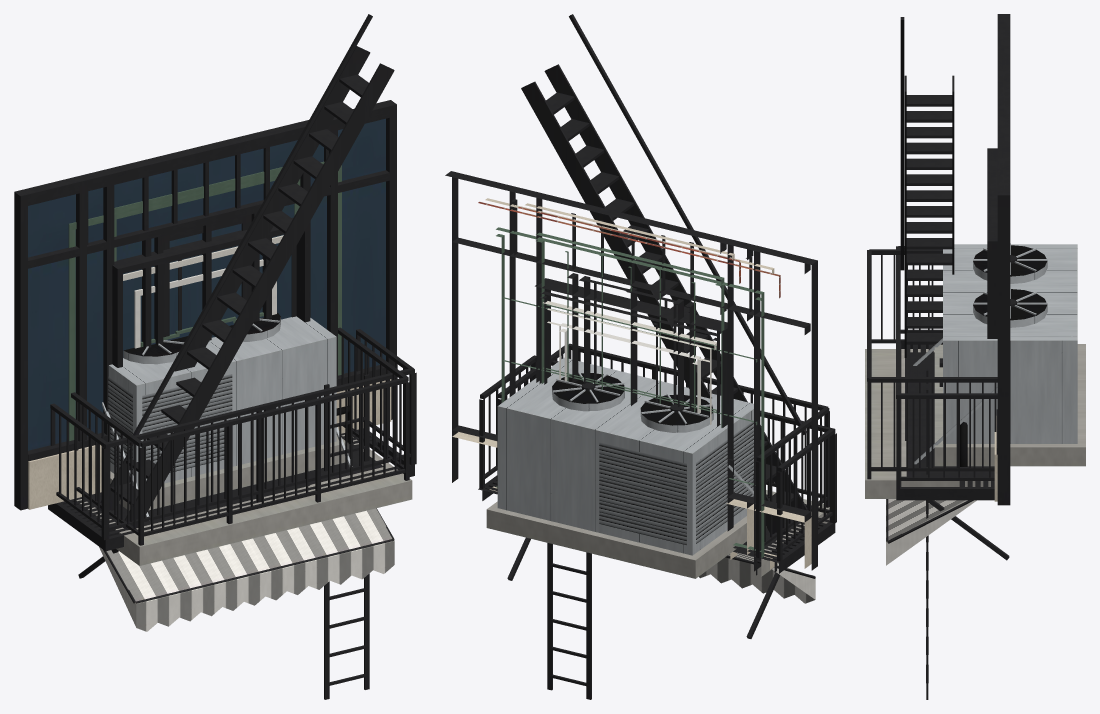
Rendered from facade-kit.glb.
The picture shows the model from 3 angles, left to right: view 1: azimuth 30°, elevation 25°; view 2: azimuth 150°, elevation 25°; view 3: azimuth 270°, elevation 25°; orthographic projection. The views are drawn at different scales.
Visible parts, largest first — view 1: storefront_door_45, fire_escape_floor, balcony_slab, hvac_rooftop, awning_fabric, storefront_glass_45, fire_escape_top, storefront_door_32, storefront_door_26, window_stucco_modern, window_brick_warehouse, fire_escape_ladder (+4 smaller); view 2: hvac_rooftop, fire_escape_floor, storefront_door_45, balcony_slab, window_brick_warehouse, window_stucco_modern, window_brick_loft, storefront_door_32, fire_escape_top, storefront_door_26, awning_fabric, fire_escape_ladder (+3 smaller); view 3: hvac_rooftop, fire_escape_floor, balcony_slab, storefront_door_45, fire_escape_top, awning_fabric, window_stucco_modern, awning_metal, fire_escape_ladder.
Boxes of the visible parts, box(x1,y1,x2,y2) form: storefront_door_45: box(14, 100, 396, 510); fire_escape_floor: box(48, 14, 416, 568); balcony_slab: box(71, 327, 412, 565); hvac_rooftop: box(108, 313, 352, 510); awning_fabric: box(99, 508, 394, 631); storefront_glass_45: box(28, 182, 390, 508); fire_escape_top: box(50, 329, 414, 578); storefront_door_32: box(76, 119, 337, 446); storefront_door_26: box(103, 127, 310, 434); window_stucco_modern: box(112, 217, 310, 367); window_brick_warehouse: box(68, 161, 341, 441); fire_escape_ladder: box(324, 374, 369, 699); hvac_rooftop: box(486, 357, 766, 578); fire_escape_floor: box(478, 14, 836, 638); storefront_door_45: box(445, 171, 817, 570); balcony_slab: box(497, 343, 829, 576); window_brick_warehouse: box(478, 198, 780, 569); window_stucco_modern: box(535, 278, 727, 427); window_brick_loft: box(518, 203, 740, 559); storefront_door_32: box(509, 191, 760, 556); fire_escape_top: box(479, 355, 836, 638); storefront_door_26: box(536, 198, 733, 531); awning_fabric: box(699, 546, 815, 603); fire_escape_ladder: box(547, 543, 591, 699); hvac_rooftop: box(934, 243, 1085, 466); fire_escape_floor: box(896, 17, 1009, 560); balcony_slab: box(865, 249, 997, 498); storefront_door_45: box(994, 14, 1010, 505); fire_escape_top: box(896, 246, 997, 500); awning_fabric: box(886, 499, 976, 565); window_stucco_modern: box(987, 148, 997, 338); awning_metal: box(906, 338, 997, 476); fire_escape_ladder: box(926, 368, 928, 699).
Size of what is drawn, in the model's own units: 4.14 by 7.21 by 2.13.
1 material, 1 textured.
